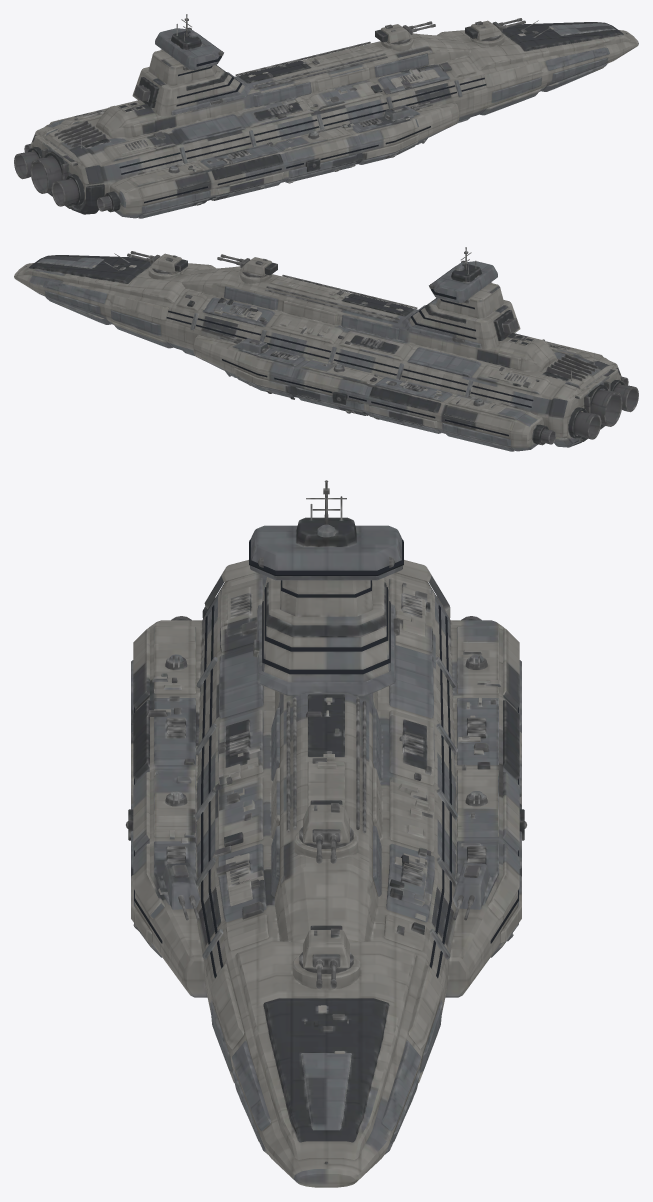
Rendered from capital.glb.
3 renders of one model, top to bottom at view 1: azimuth 30°, elevation 25°; view 2: azimuth 150°, elevation 25°; view 3: azimuth 270°, elevation 25°, orthographic. The views are drawn at different scales.
Parts seen in each view (by area): view 1: capital_hull, turret_1, turret_0; view 2: capital_hull, turret_1, turret_0; view 3: capital_hull, turret_1, turret_0.
Boxes of the visible parts, x1,y1,x2,y2 form: capital_hull: [14, 14, 638, 218]; turret_1: [375, 21, 435, 44]; turret_0: [465, 18, 525, 41]; capital_hull: [14, 247, 638, 451]; turret_1: [217, 254, 277, 277]; turret_0: [127, 251, 187, 274]; capital_hull: [126, 480, 526, 1187]; turret_1: [299, 800, 353, 863]; turret_0: [299, 925, 353, 988].
Size of the model in its own units: 50 by 14.15 by 14.68.
1 material, 1 textured.
